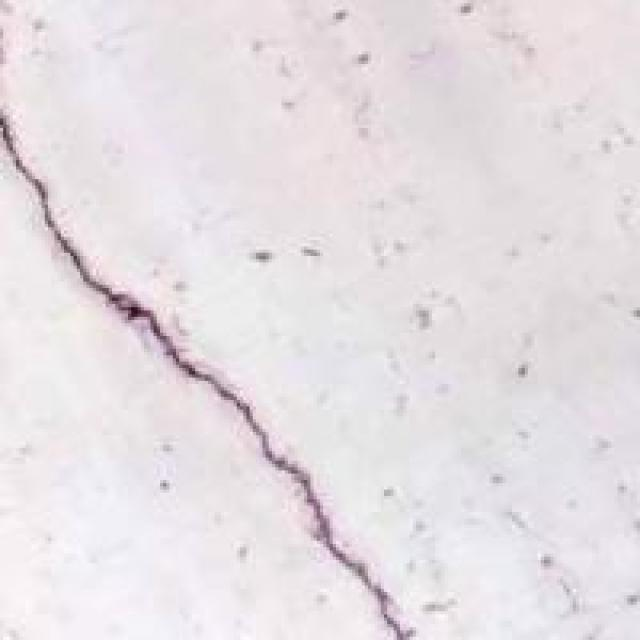Crack: (0, 90, 416, 634)
